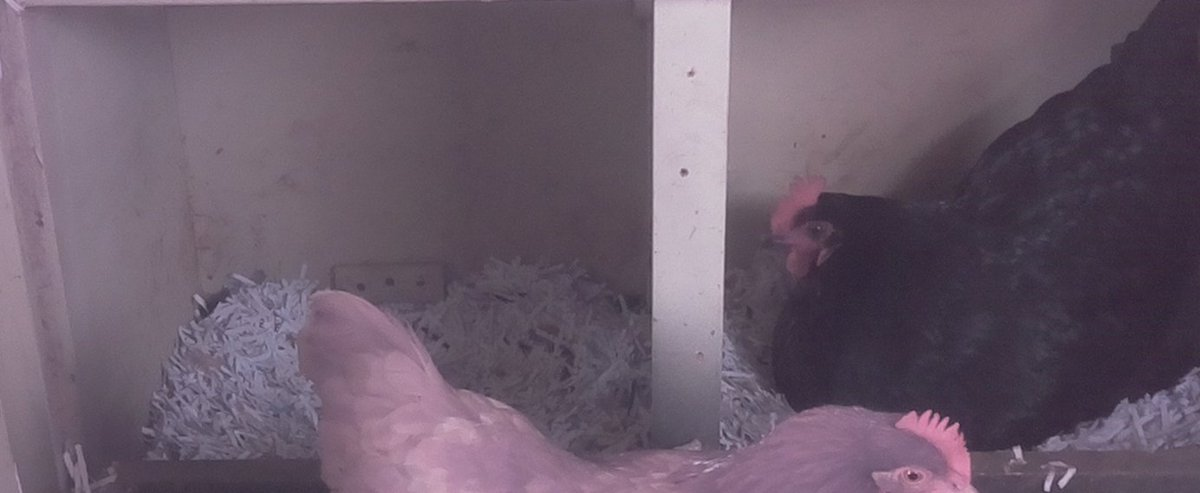hen: (759, 5, 1200, 454), (291, 278, 974, 493)
